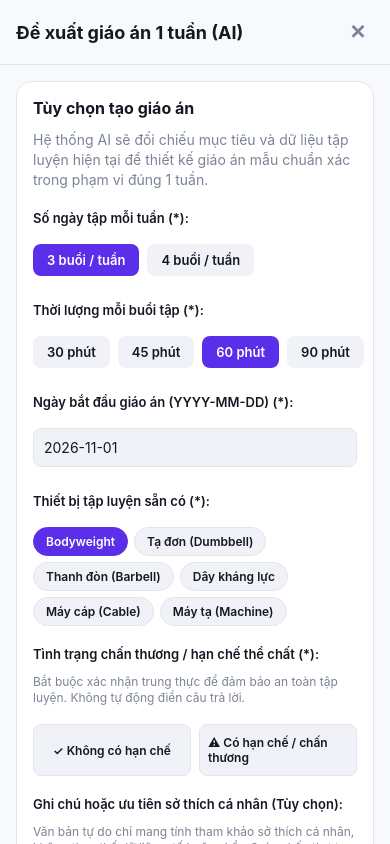
Test: AiWorkoutProposalModal › renders request form initially and generates proposal
Click the element with test id "days-per-week-4" at (201, 260), box [147,244,254,276]
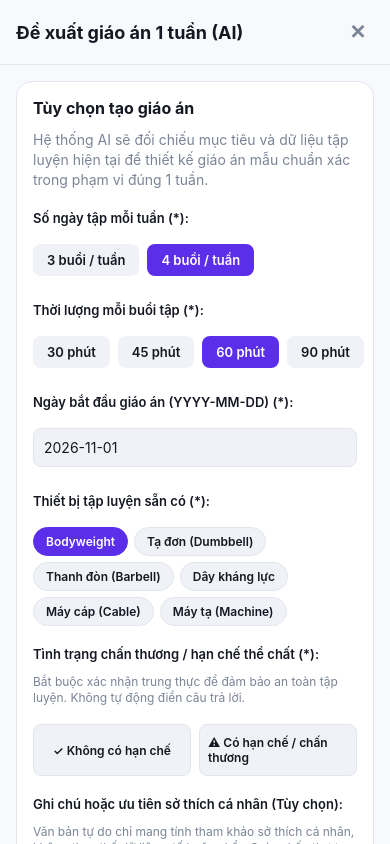
Click the element with test id "session-minutes-45" at (156, 352), box [118,336,194,368]
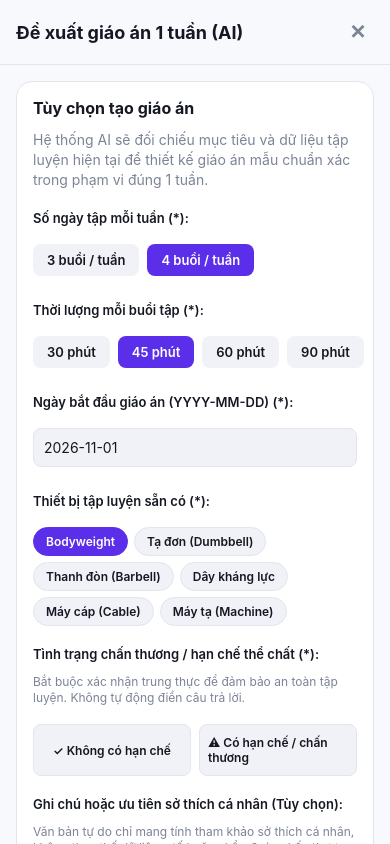
Click the element with test id "limitations-none-button" at (112, 750), box [33,724,191,776]
(page scrolled)
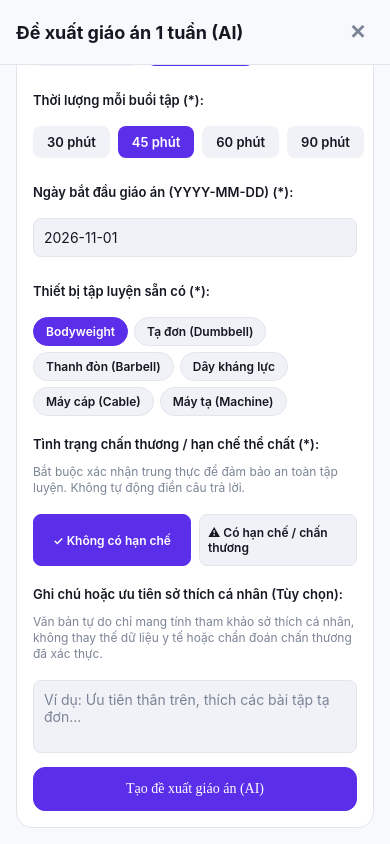
Type "No overhead presses" into the text box with test id "ai-proposal-notes-input" at (195, 716), box [33,680,357,753]
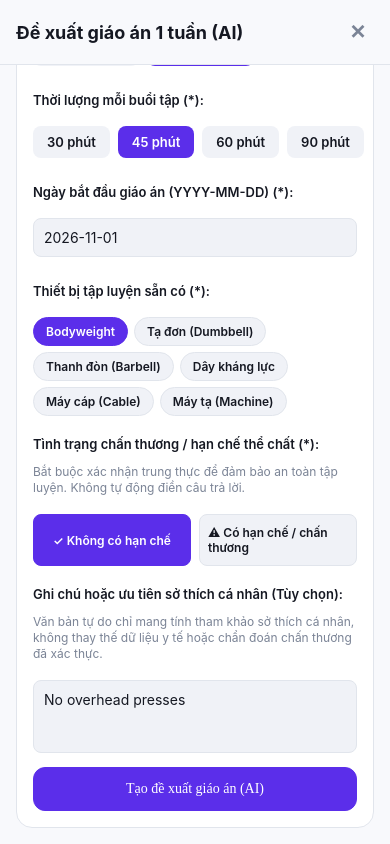
Click the button with test id "generate-ai-proposal-button" at (195, 789), box [33,767,357,811]
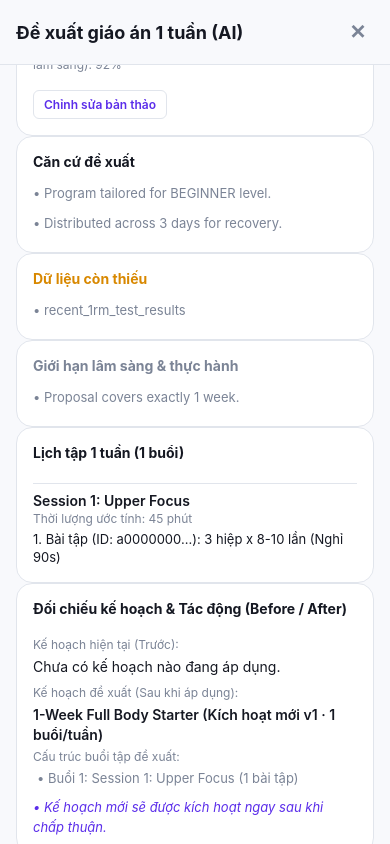
Expected: the element with test id "start-edit-draft-button" is shown, [33,90,167,119]
